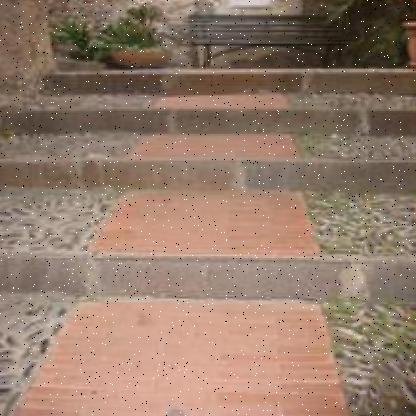stair_up: (44, 65, 396, 308)
